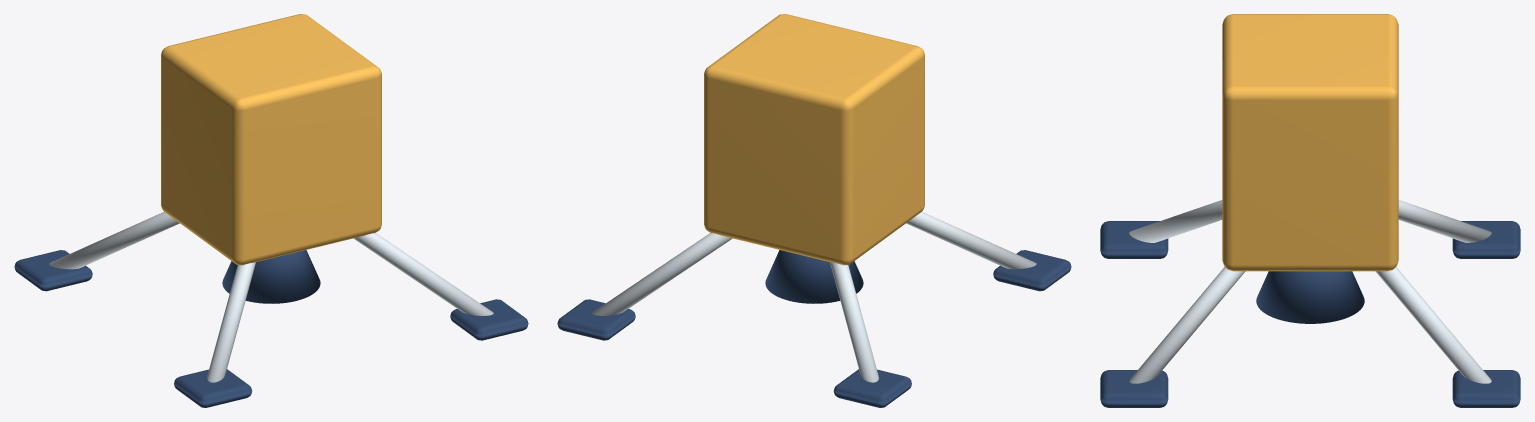
File: lunar-lander-quality.glb
3 views of the same model, side by side, from view 1: azimuth 30°, elevation 25°; view 2: azimuth 150°, elevation 25°; view 3: azimuth 270°, elevation 25° (orthographic). The views are drawn at different scales.
Parts seen in each view (by area): view 1: Landing module; view 2: Landing module; view 3: Landing module.
Part boxes in pixels (bbox=[...]): Landing module: bbox=[14, 14, 528, 407]; Landing module: bbox=[557, 14, 1071, 407]; Landing module: bbox=[1100, 14, 1520, 407].
Bounding box in the file's own units: 1.55 × 1.11 × 1.55.
